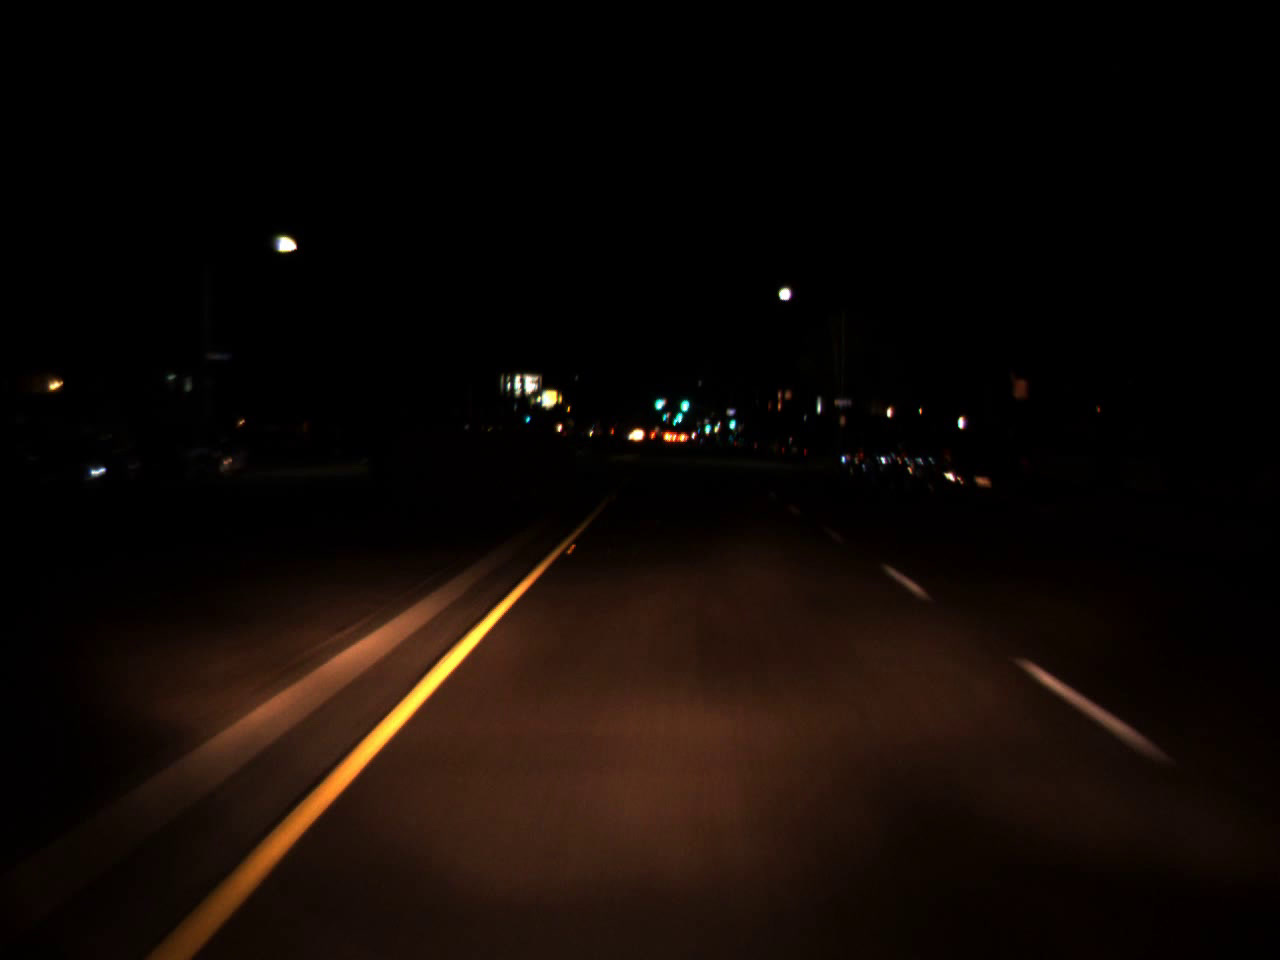go: (678, 384, 690, 417), (653, 386, 663, 413), (673, 402, 683, 426), (727, 409, 736, 433), (659, 405, 668, 423), (523, 409, 530, 424), (703, 419, 711, 432), (670, 413, 677, 425)
